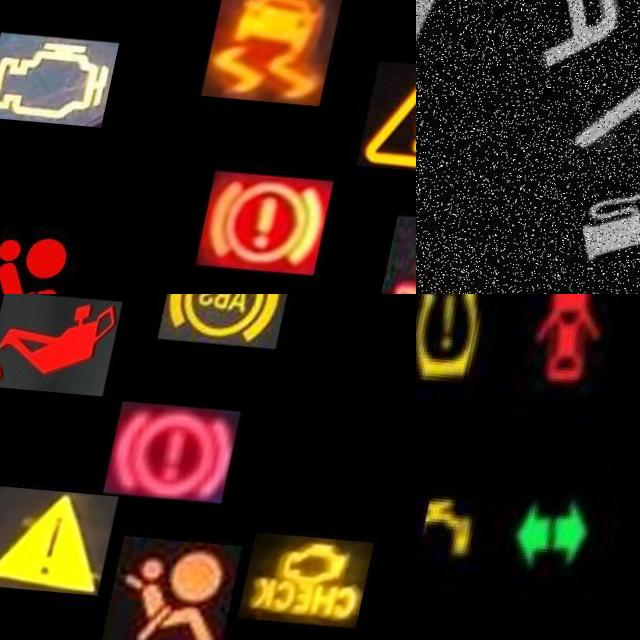Central Warning lamp: (0, 481, 131, 588), (364, 53, 416, 166)
